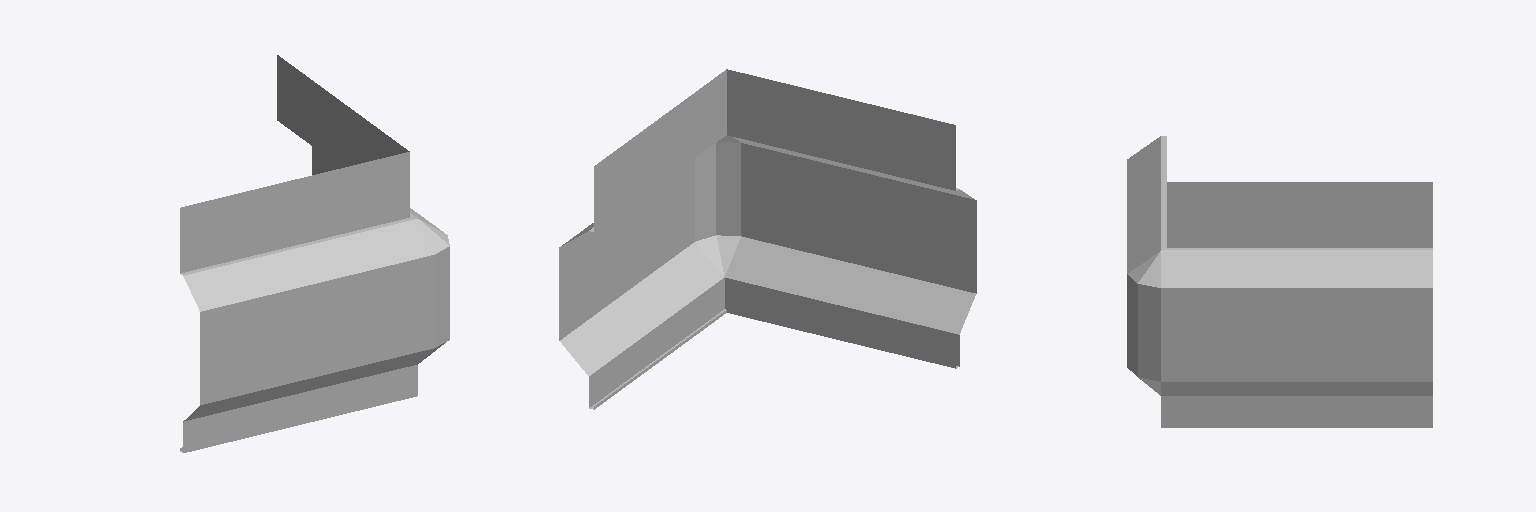
Rendered from greybox_wall_interior_corner_01.obj.
3 renders of one model, left to right at view 1: azimuth 30°, elevation 25°; view 2: azimuth 150°, elevation 25°; view 3: azimuth 270°, elevation 25°, orthographic.
Visible parts, largest first — view 1: pCube4; view 2: pCube4; view 3: pCube4.
Boxes of the visible parts, x1,y1,x2,y2 form: pCube4: [180, 55, 449, 452]; pCube4: [559, 69, 976, 409]; pCube4: [1127, 136, 1432, 427].
Size of the model in its own units: 4.6 by 4.05 by 4.6.